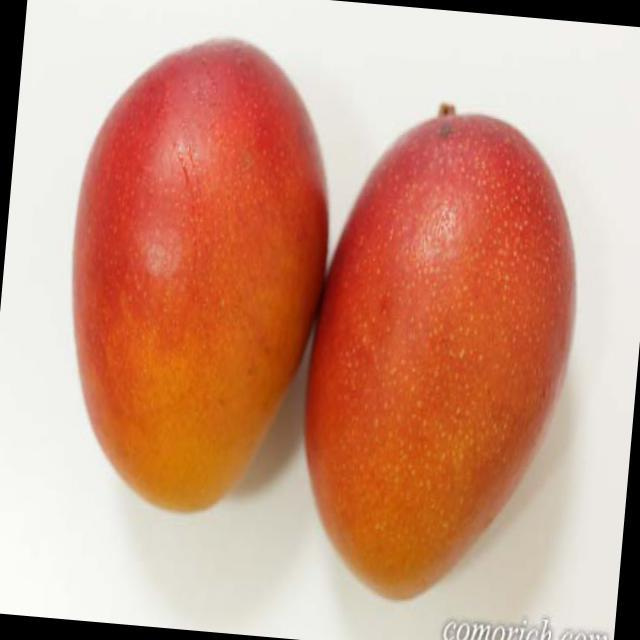mango: (308, 109, 575, 600), (74, 40, 327, 510)
